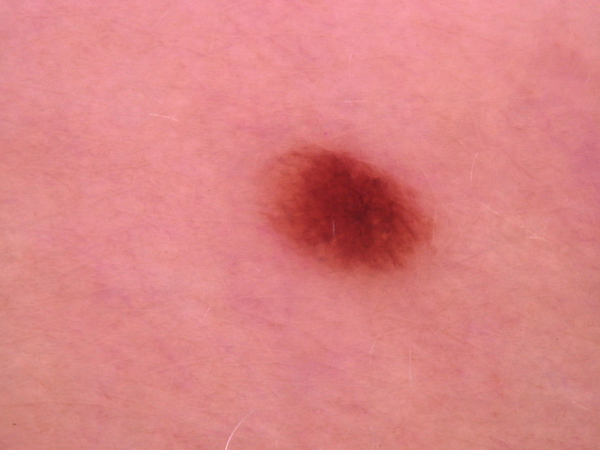Detected Lesion: (258, 138, 437, 285)
